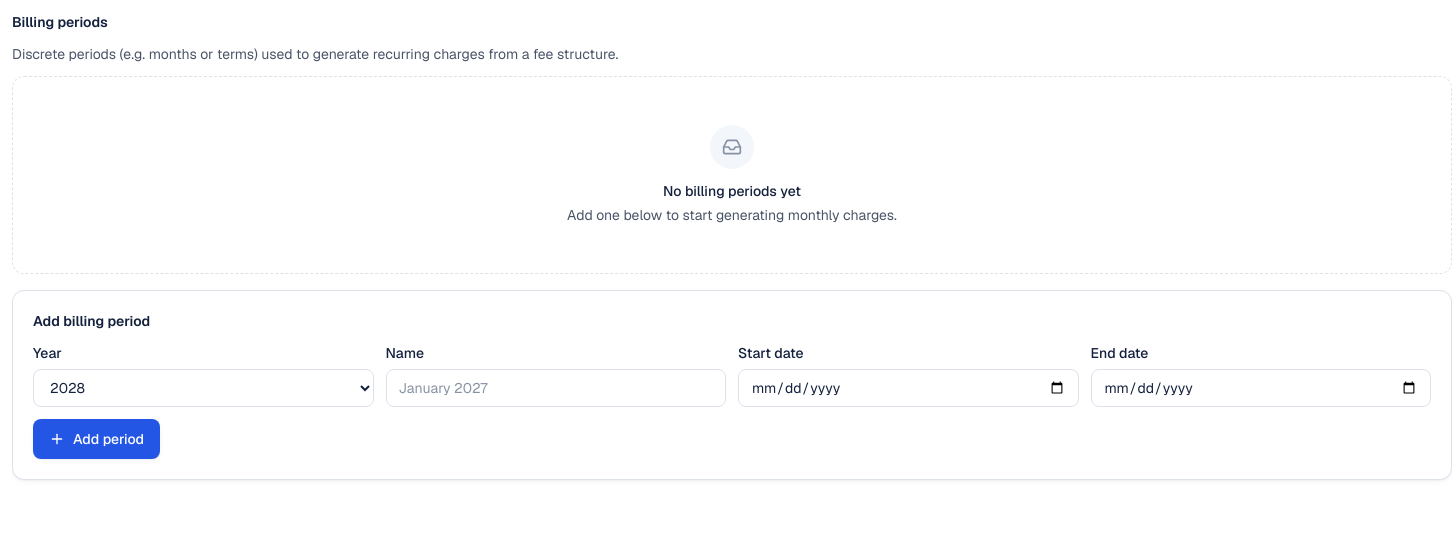
Test case: BillingPeriodsTab — create billing period (mutation) › shows the ApiError's message inline (not a toast) when creating fails
Expected: the heading "Add billing period" is shown, [33,312,150,330]
In the field with placeholder "January 2027": (556, 388) [386,369,726,407], type "January"
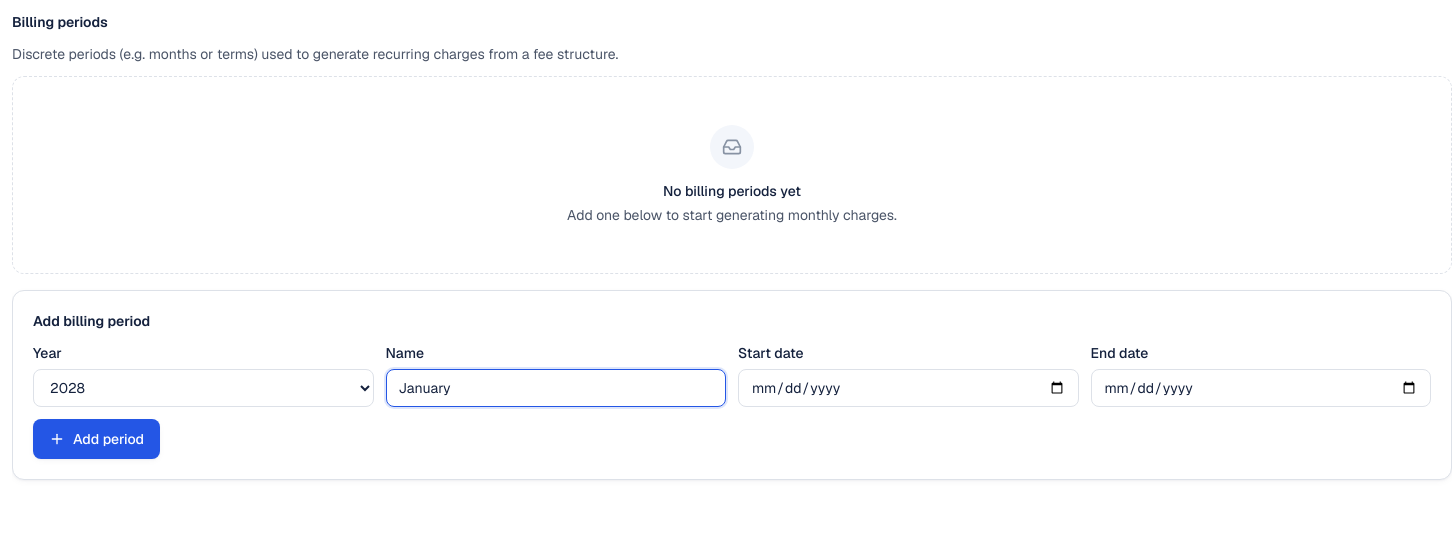
In the date field below "Start date": (908, 388) [738,369,1078,407], type "2028-01-31"
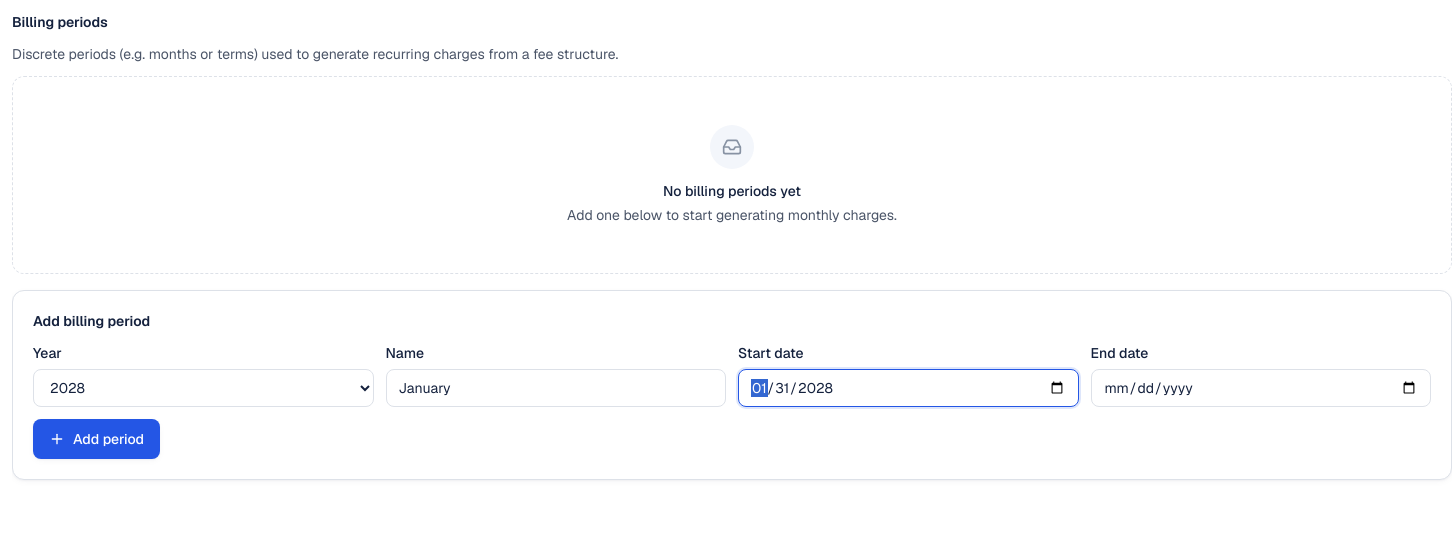
In the date field below "End date": (1261, 388) [1090,369,1431,407], type "2028-01-01"
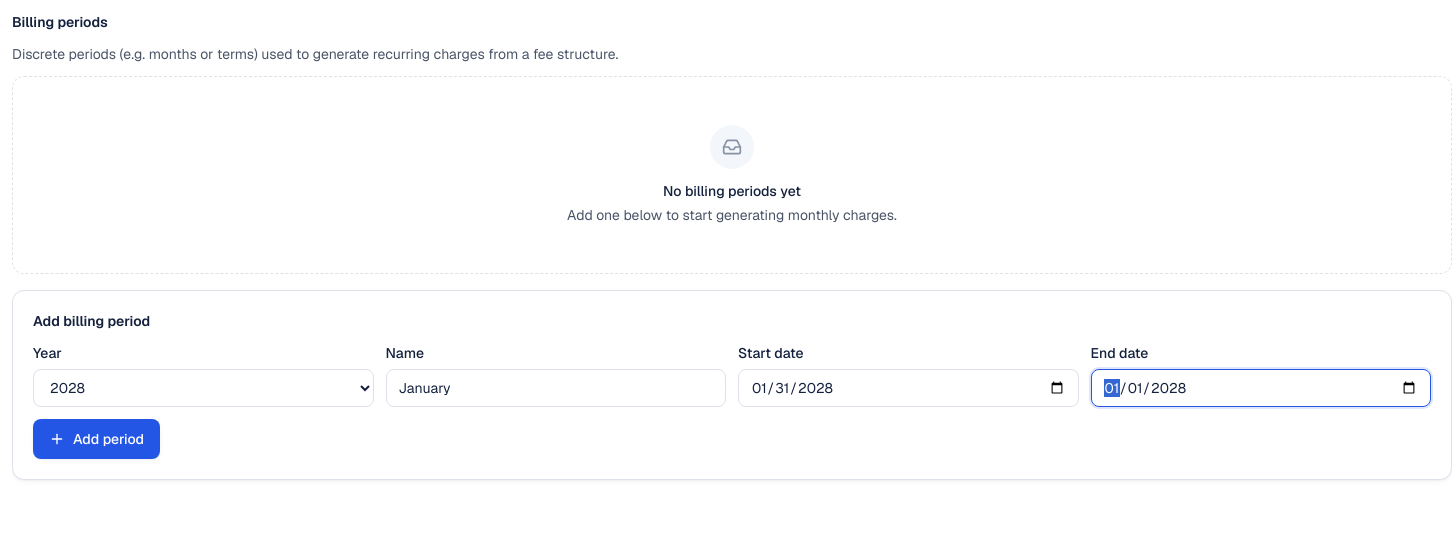
Click the button "Add period": click(97, 439) [33,419,160,459]
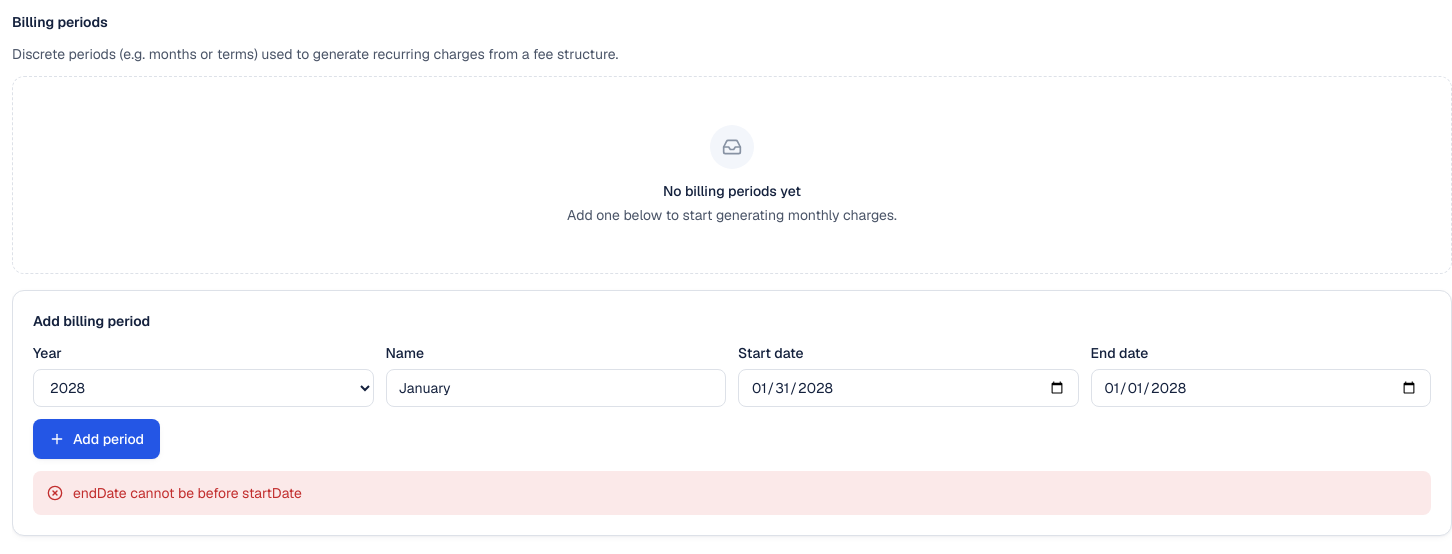
Result: the text "endDate cannot be before startDate" is shown at [73,483,302,503]
